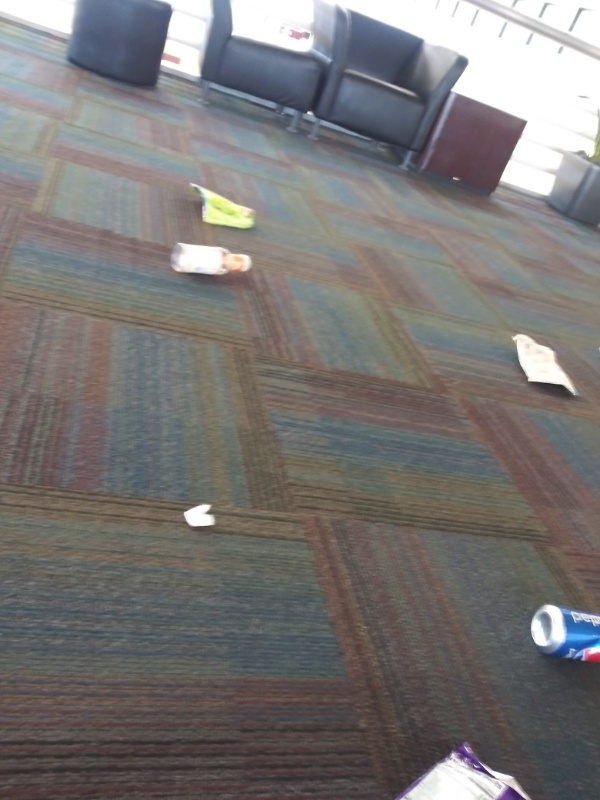bag: (381, 738, 546, 800), (508, 329, 584, 398), (182, 179, 263, 235)
bottle: (166, 239, 256, 282)
can: (526, 601, 600, 667)
